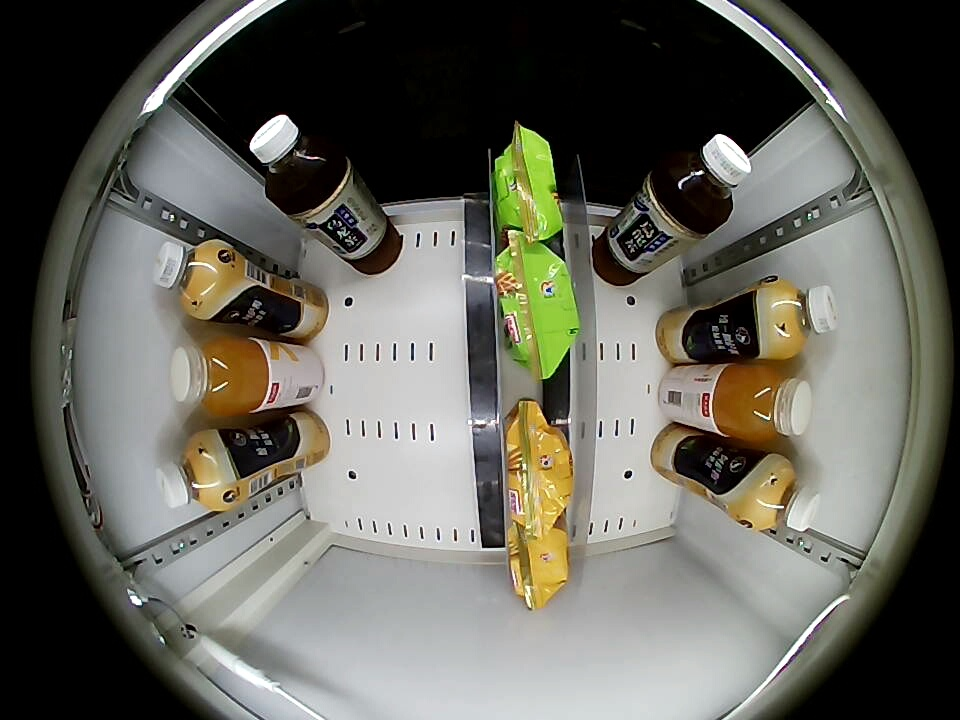asamu: (761, 278, 840, 357), (743, 457, 822, 534), (152, 239, 231, 316), (157, 432, 234, 511)
kaomo_gali: (504, 409, 574, 528), (506, 522, 568, 610)
kaomo_xiangcon: (495, 241, 580, 374), (492, 133, 566, 244)
weic: (170, 335, 270, 417), (713, 363, 814, 443)
wulongcha: (658, 134, 752, 229), (249, 114, 342, 209)
